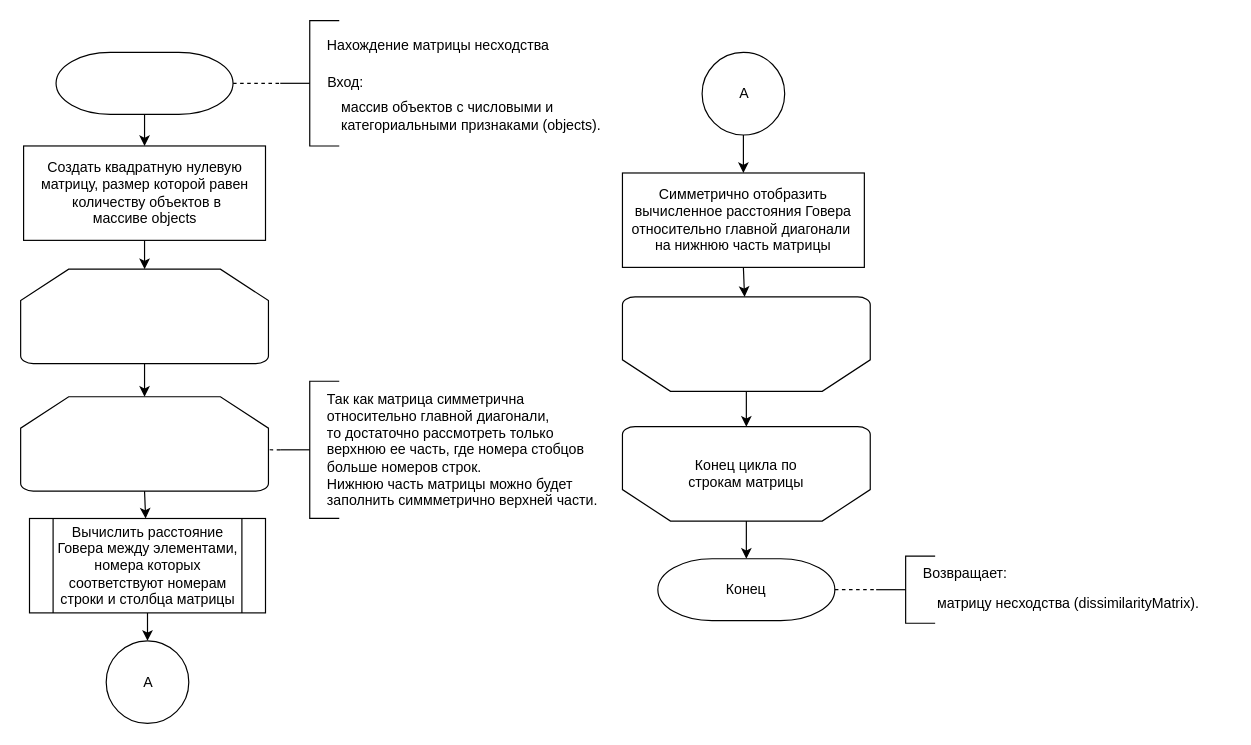
Image size: 1251x745. Some labels were removed from this diagram. The shapes that lost their labels are listed below. From the top down, each one's box as (x1, y1, x2, y2) in pixels, then its label:
(55, 51, 233, 114): Начало
(19, 268, 268, 364): Цикл по всем строкам матрицы
(621, 296, 870, 391): Конец цикла по столбцам матрицы
(19, 396, 268, 491): Цикл по столбцам матрицы, номера которых больше номера текущей строки
